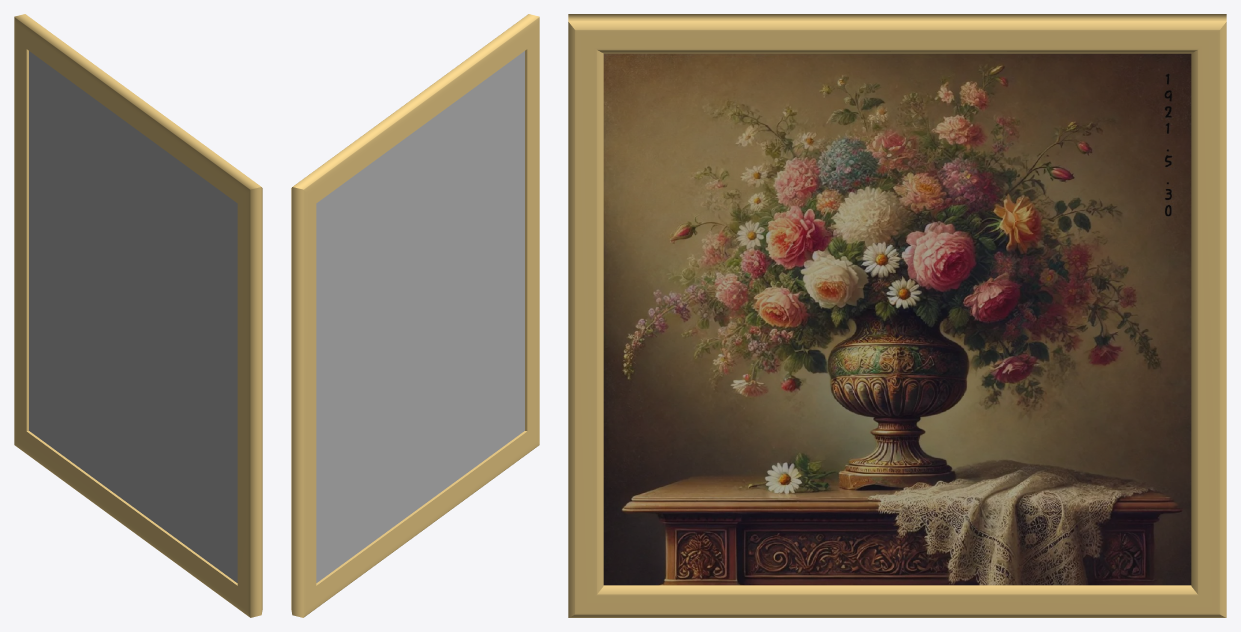
Rendered from Flower Picture.fbx.
3 views of the same model, side by side, from view 1: azimuth 30°, elevation 25°; view 2: azimuth 150°, elevation 25°; view 3: azimuth 270°, elevation 25° (orthographic). The views are drawn at different scales.
Visible parts, largest first — view 1: Cube.005; view 2: Cube.005; view 3: Cube.005.
Part boxes in pixels (x1,y1,x2,y2): Cube.005: (14,14,262,617); Cube.005: (291,14,539,617); Cube.005: (568,14,1226,617).
Size of the model in its own units: 14.53 by 397 by 397.
